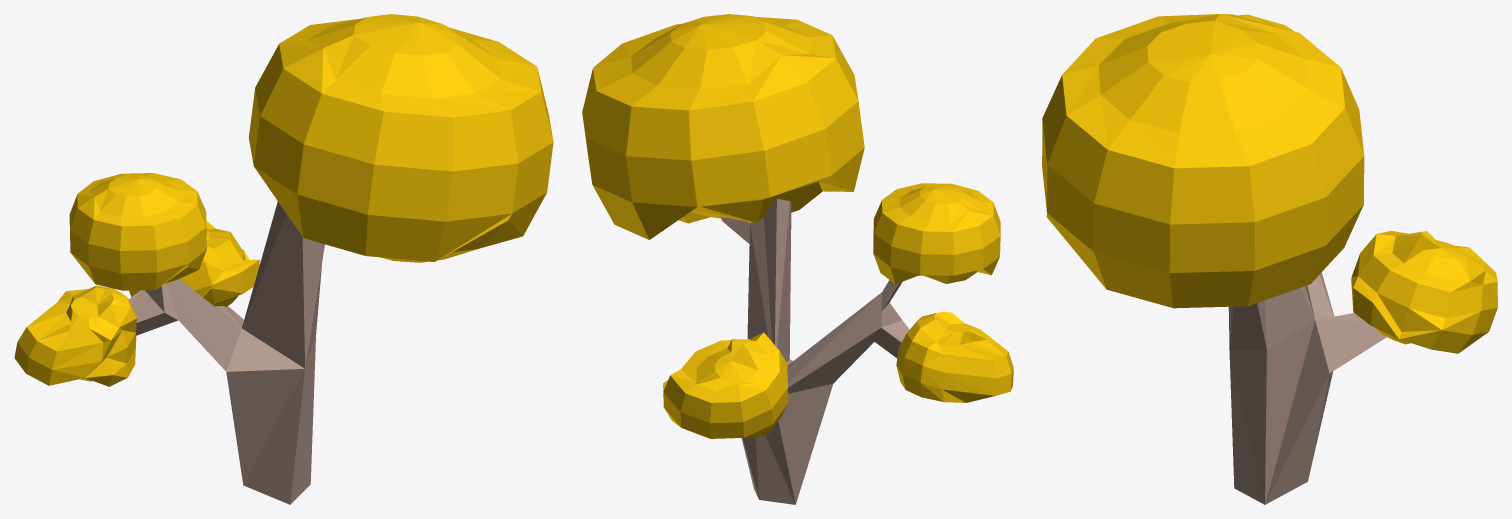
File: yellow-tree.glb
3 renders of one model, left to right at view 1: azimuth 30°, elevation 25°; view 2: azimuth 150°, elevation 25°; view 3: azimuth 270°, elevation 25°, orthographic. The views are drawn at different scales.
Visible parts, largest first — view 1: group1231894015, group1316827842, group694653199, group47828465, group1943645757; view 2: group1231894015, group1316827842, group694653199, group1943645757, group47828465; view 3: group1231894015, group1316827842, group1943645757.
Part boxes in pixels (x1,y1,x2,y2): group1231894015: (248,14,553,262); group1316827842: (128,201,324,504); group694653199: (69,173,206,290); group47828465: (14,285,136,386); group1943645757: (129,221,259,306); group1231894015: (582,14,864,239); group1316827842: (720,198,909,504); group694653199: (873,183,1000,284); group1943645757: (663,332,788,438); group47828465: (896,312,1013,402); group1231894015: (1042,14,1364,308); group1316827842: (1228,272,1386,504); group1943645757: (1351,231,1497,353).
Size of the model in its own units: 2.42 by 2.25 by 1.88.
